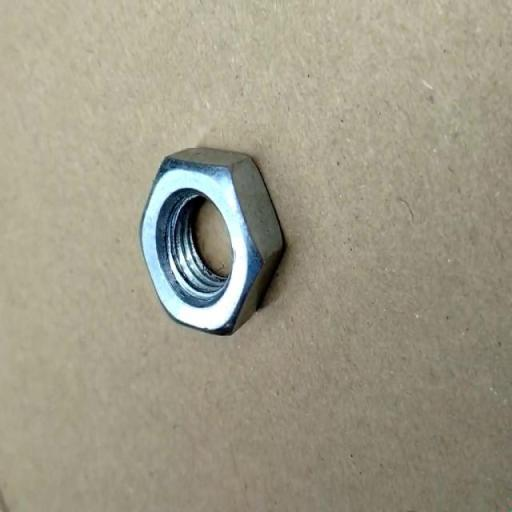Nut: (139, 146, 287, 336)
